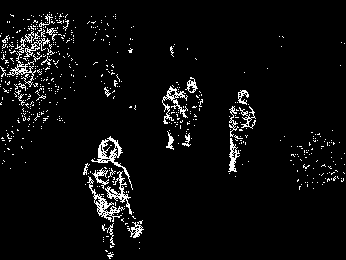person: (81, 137, 144, 257), (229, 89, 255, 172), (182, 78, 203, 148), (161, 80, 182, 149)
